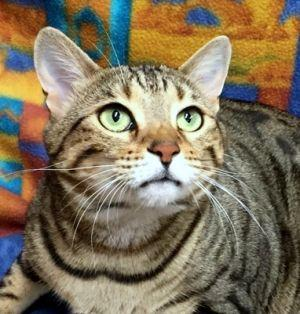bengal: (30, 18, 241, 224)
